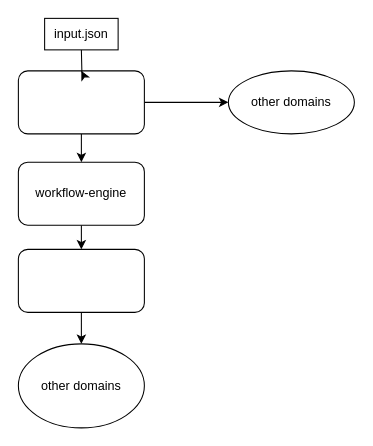
This 373x446 diagram has some shape labels left out. The shapes that lost their labels are listed below. From the top down, each one's centre as x and y in pixels, then its label:
[80,102]: ms-day1-bringup
[80,280]: nano-service
